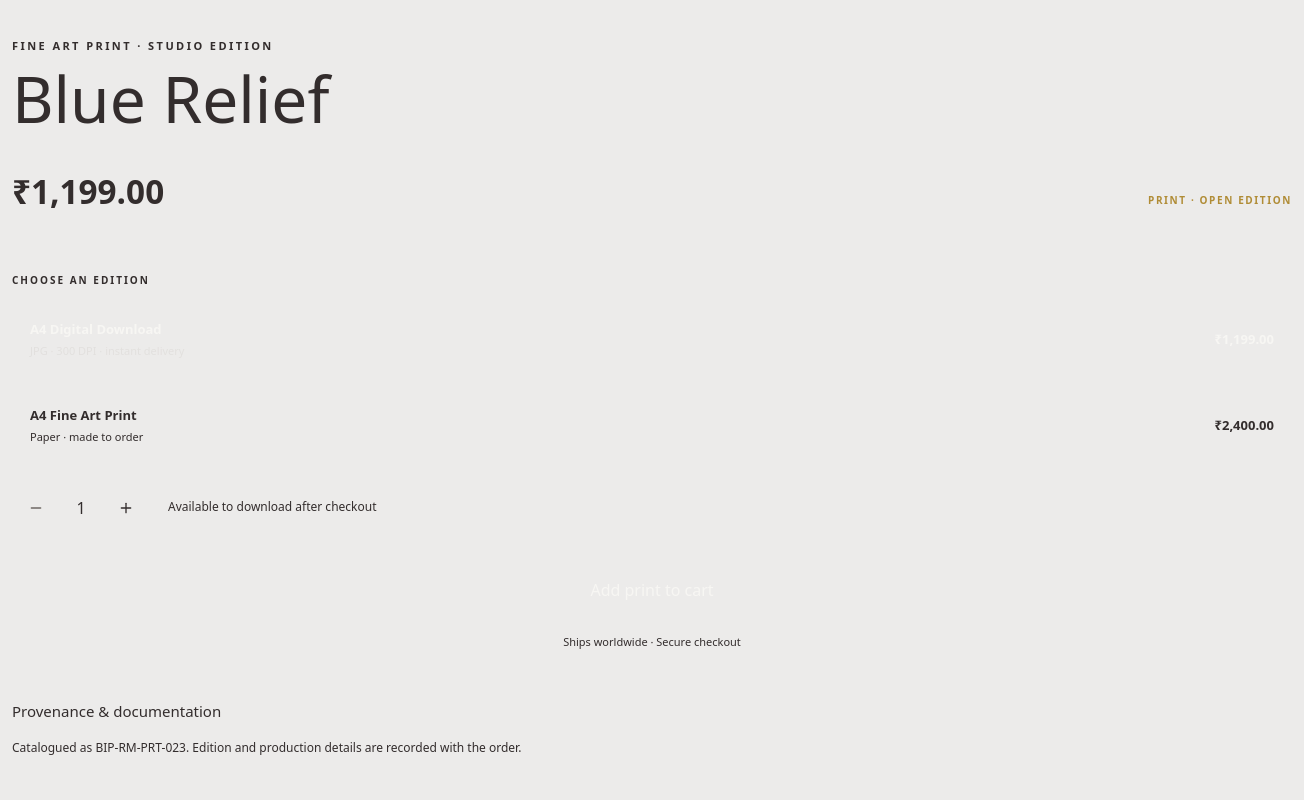
Test: route-specific product purchase panel › switches print fulfillment, price, and quantity without changing routes
Expected: the heading "Blue Relief" is shown, [12,55,330,142]
Expected: the text "Choose an edition" is shown, [12,273,150,288]
Click the button "A4 Fine Art Print Paper · made to order ₹2,400.00" at x=83, y=415, box [12,388,1292,464]
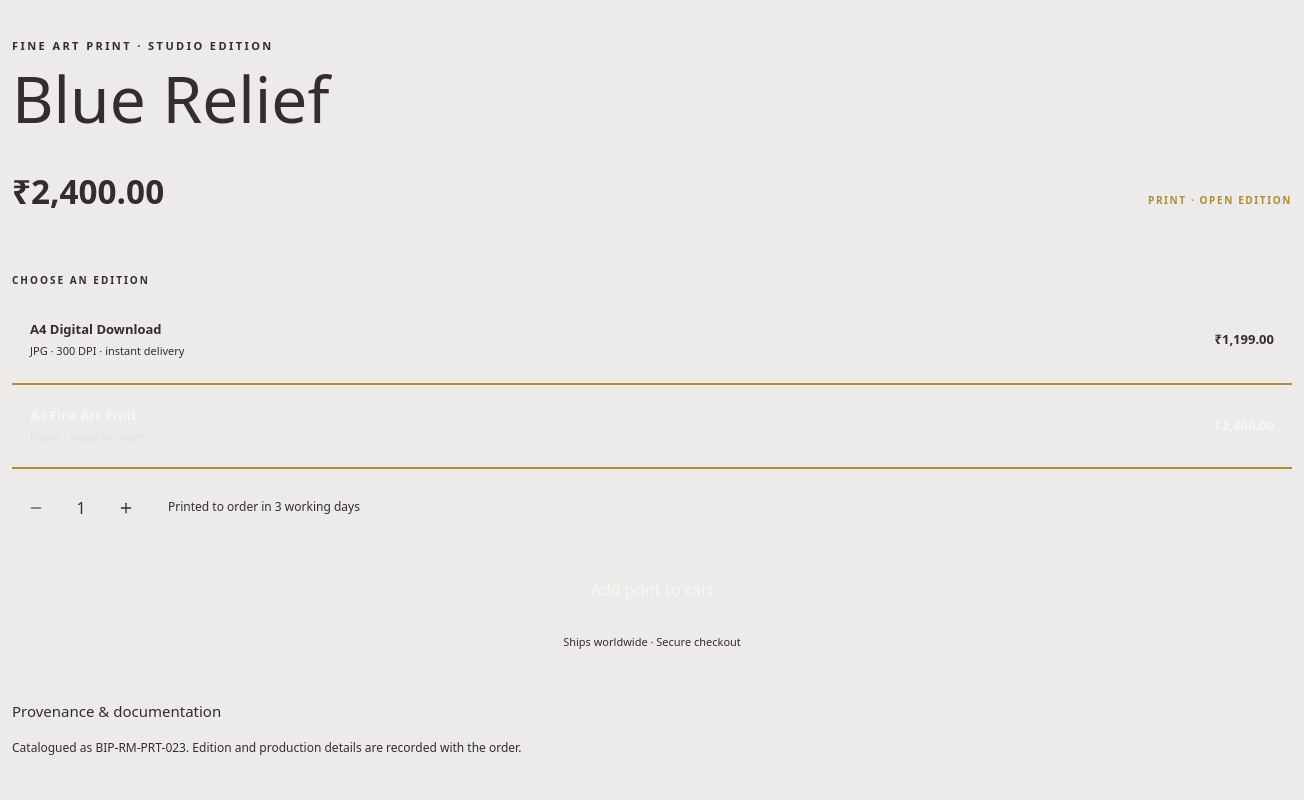
Expected: the text "₹2,400.00" in the row of "Print · open edition" is shown, [12,168,164,214]
Expected: the text "Printed to order in 3 working days" is shown, [168,499,360,516]
Click the button named "Increase quantity" at x=126, y=508, box [110,492,142,524]
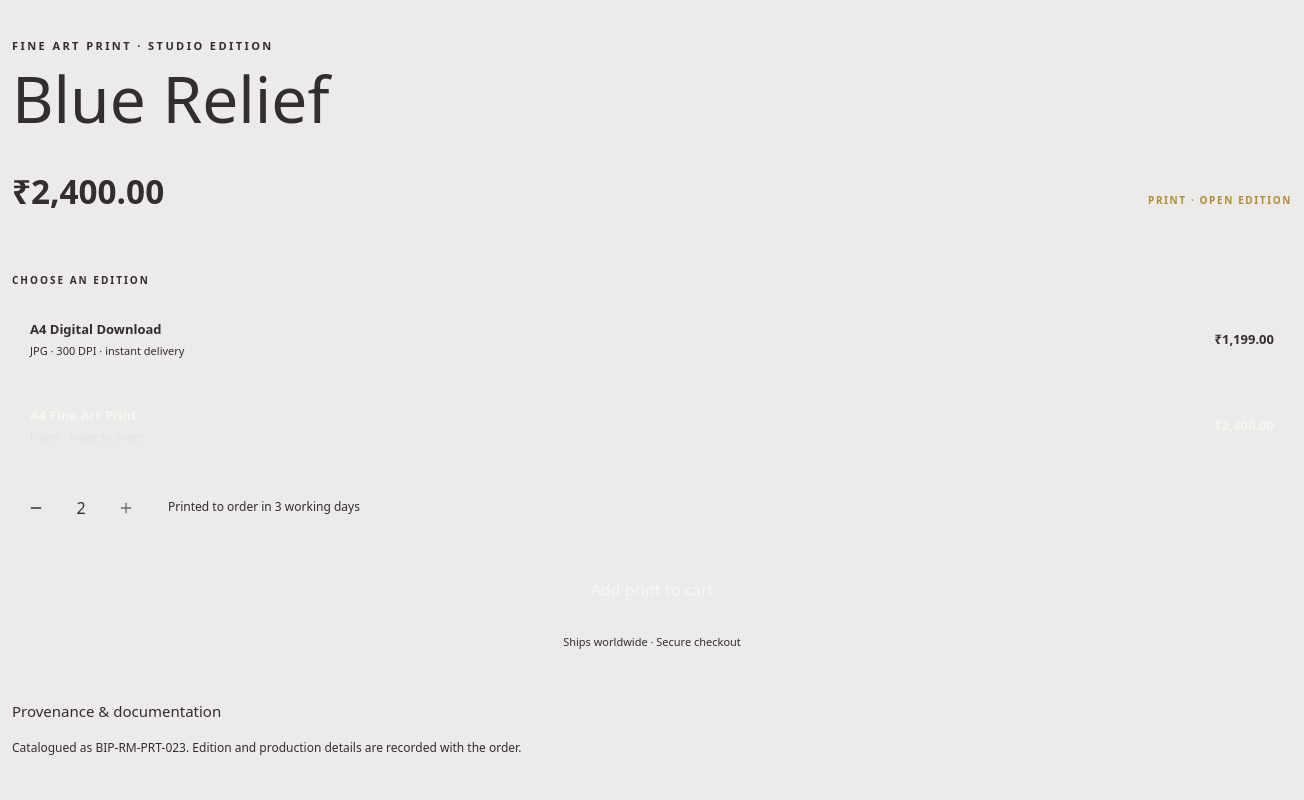
Expected: the text "2" is shown, [76,496,86,520]
Expected: the button named "Increase quantity" is disabled, [110,492,142,524]
